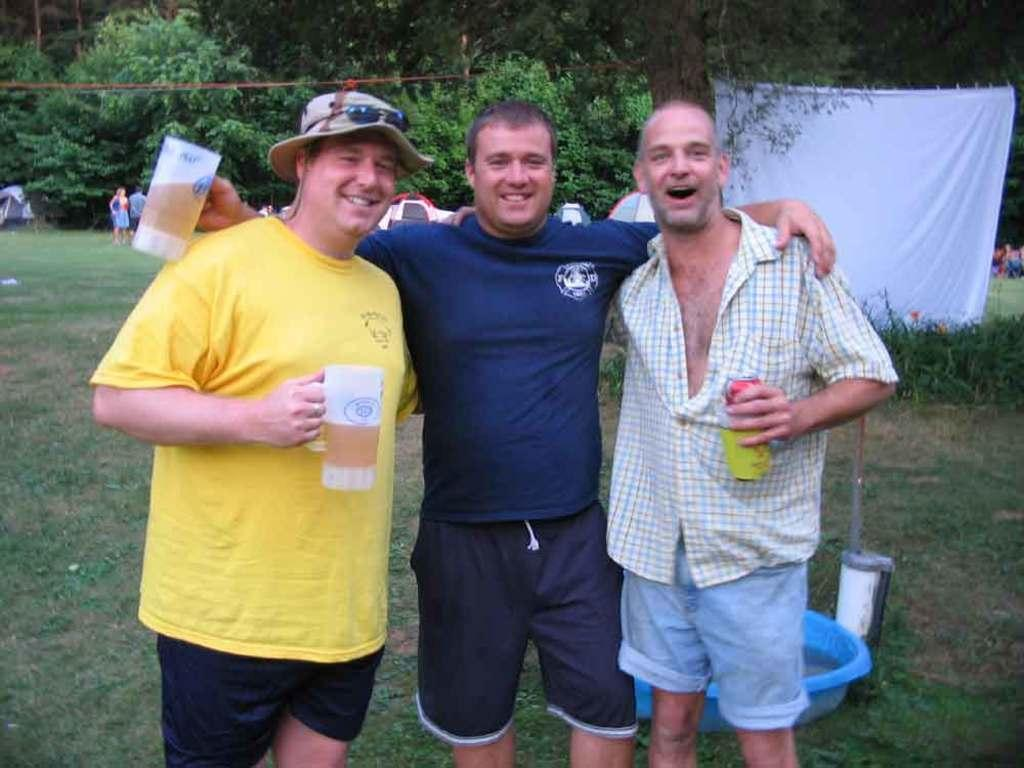Hat: (264, 90, 434, 182)
